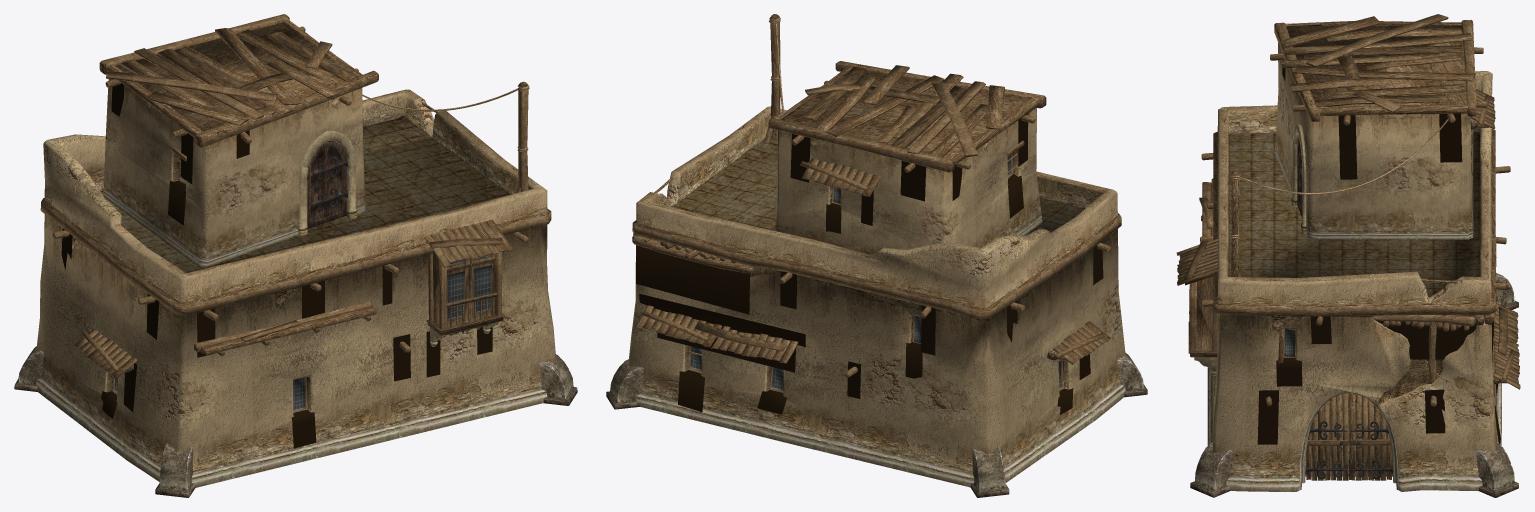
File: oriental_houses_03.obj
3 views of the same model, side by side, from view 1: azimuth 30°, elevation 25°; view 2: azimuth 150°, elevation 25°; view 3: azimuth 270°, elevation 25° (orthographic). The views are drawn at different scales.
Parts seen in each view (by area): view 1: oriental_houses_03.obj; view 2: oriental_houses_03.obj; view 3: oriental_houses_03.obj.
Part boxes in pixels (x1,y1,x2,y2): oriental_houses_03.obj: (14,14,577,497); oriental_houses_03.obj: (606,14,1147,497); oriental_houses_03.obj: (1176,14,1520,497).
Bounding box in the file's own units: 444 × 322 × 318.
Materials: 13 (13 with a texture image).
